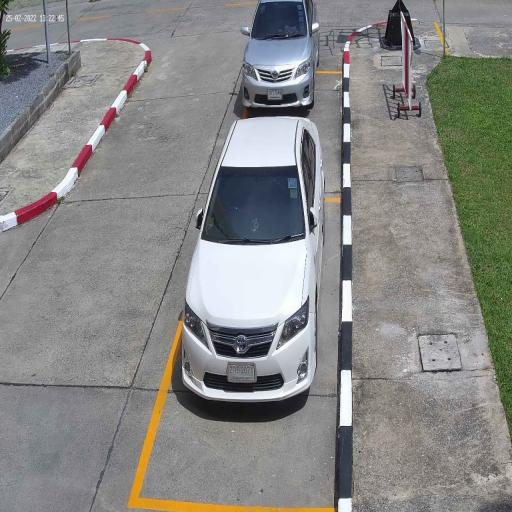car: (182, 117, 326, 404), (243, 0, 319, 111)
